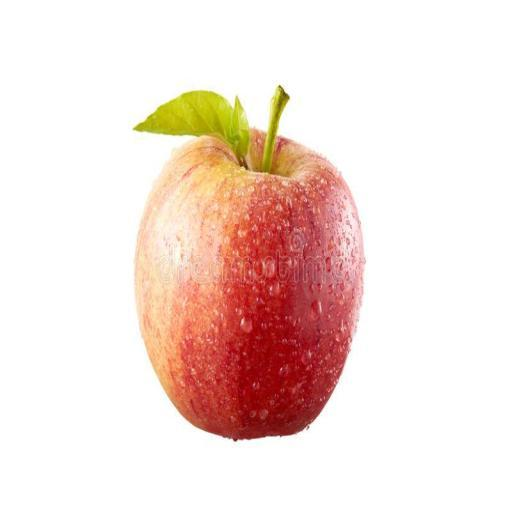apple: (136, 130, 364, 438)
